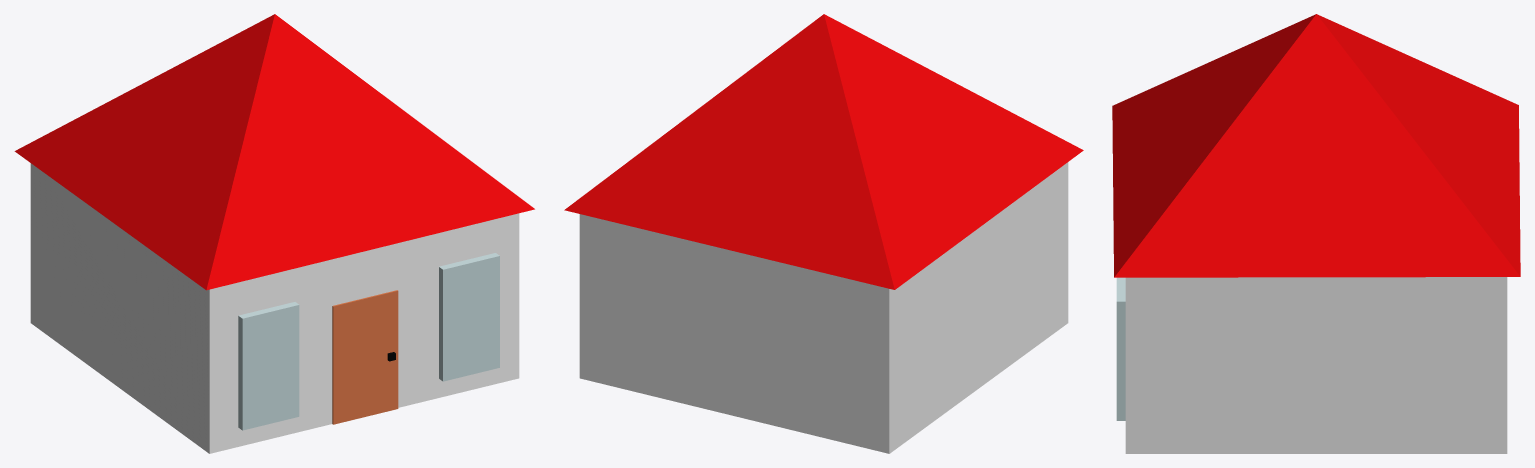
Rendered from Casa 5.fbx.
3 views of the same model, side by side, from view 1: azimuth 30°, elevation 25°; view 2: azimuth 150°, elevation 25°; view 3: azimuth 270°, elevation 25° (orthographic). The views are drawn at different scales.
Visible parts, largest first — view 1: Cone, Cube, Cube.001, Cube.004, Cube.003; view 2: Cube, Cone; view 3: Cone, Cube, Cube.003.
Boxes of the visible parts, x1,y1,x2,y2 form: Cone: (14, 14, 534, 290); Cube: (30, 163, 519, 453); Cube.001: (332, 290, 398, 424); Cube.004: (238, 302, 299, 430); Cube.003: (439, 253, 499, 381); Cube: (579, 162, 1068, 453); Cone: (564, 14, 1083, 289); Cone: (1112, 14, 1520, 277); Cube: (1125, 277, 1507, 453); Cube.003: (1116, 277, 1125, 420).
Size of the model in its own units: 134 by 130 by 134.
